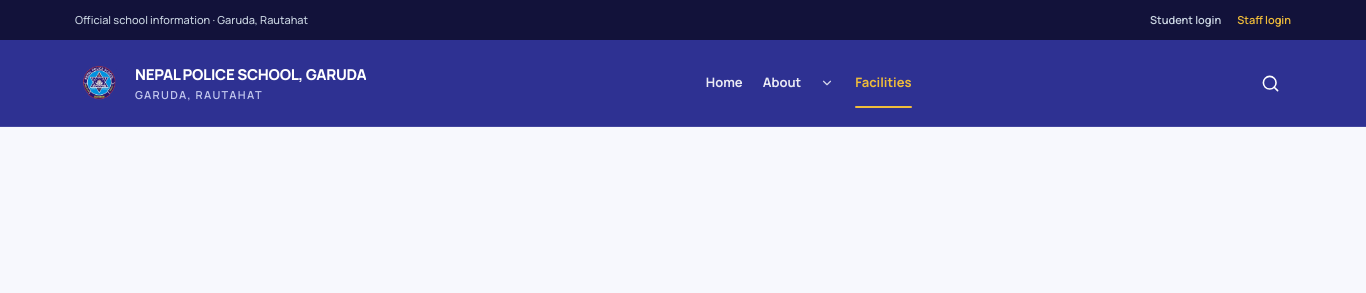
Scenario: site header desktop dropdowns › does not treat touch input as hover and retains the disclosure button
Hover over the element showing "About" at (803, 83), box [763,61,843,105]
Click the button named "Open About submenu". click: (827, 83)
box: [811,61,843,105]
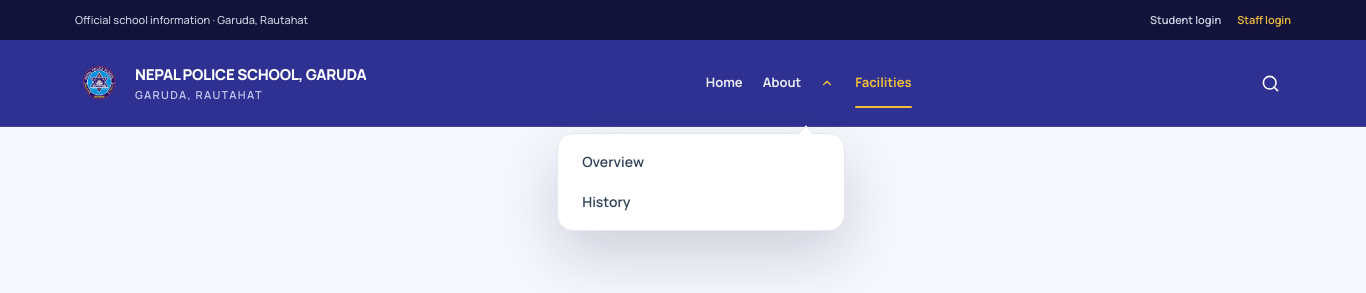
Now the element named "About submenu" is shown, box [557,125,845,231]
Now the button named "Close About submenu" is expanded, box [811,61,843,105]
